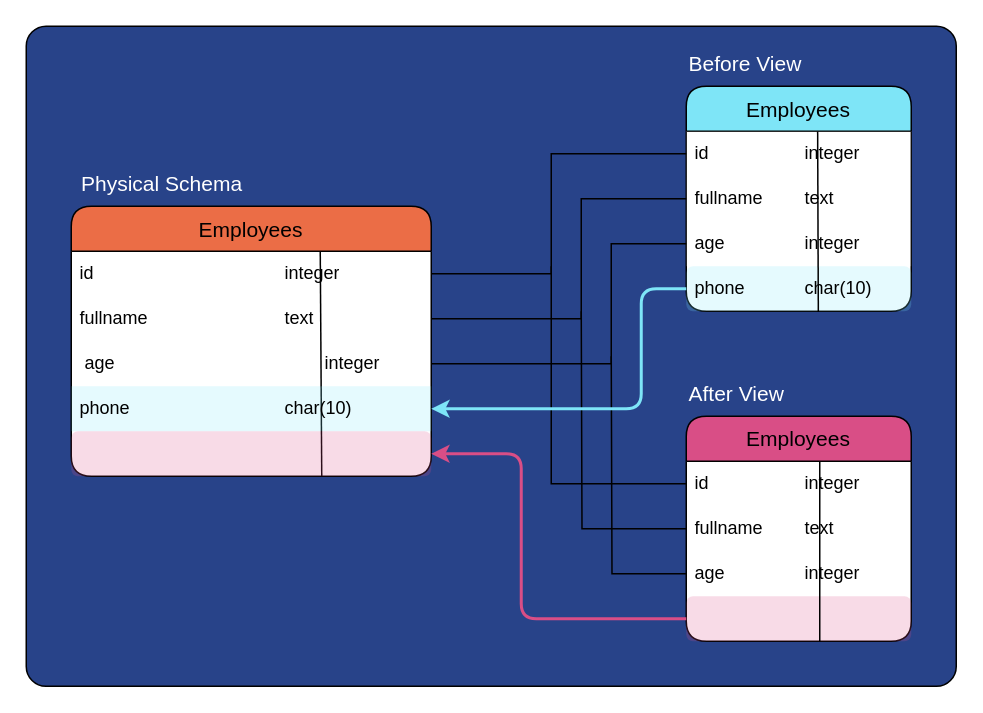
The diagram is 983 pixels wide and 713 high, and some of its shapes have lost their labels. The shapes that lost their labels are listed below. From the top down, each one's centre as x and y in pixels, then its label:
At (x=250, y=453): "laridae_new_phone char(11)".
At (x=798, y=618): "phone char(11)".
